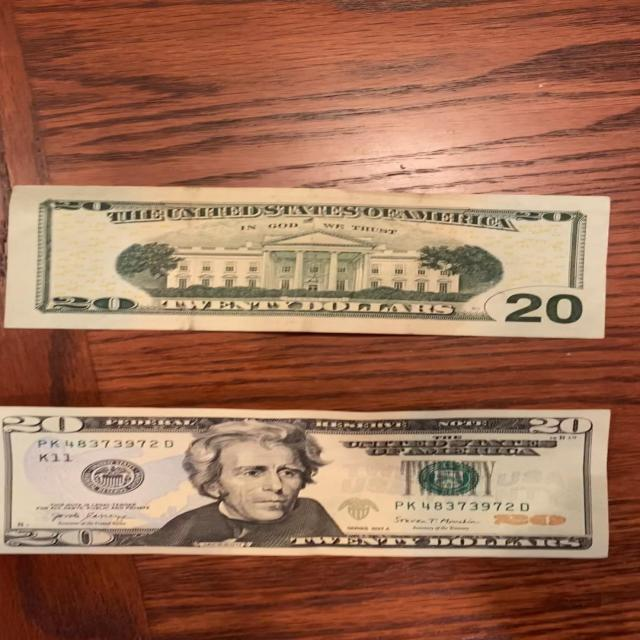20-Back: (4, 183, 608, 341)
20-Front: (1, 404, 612, 561)
